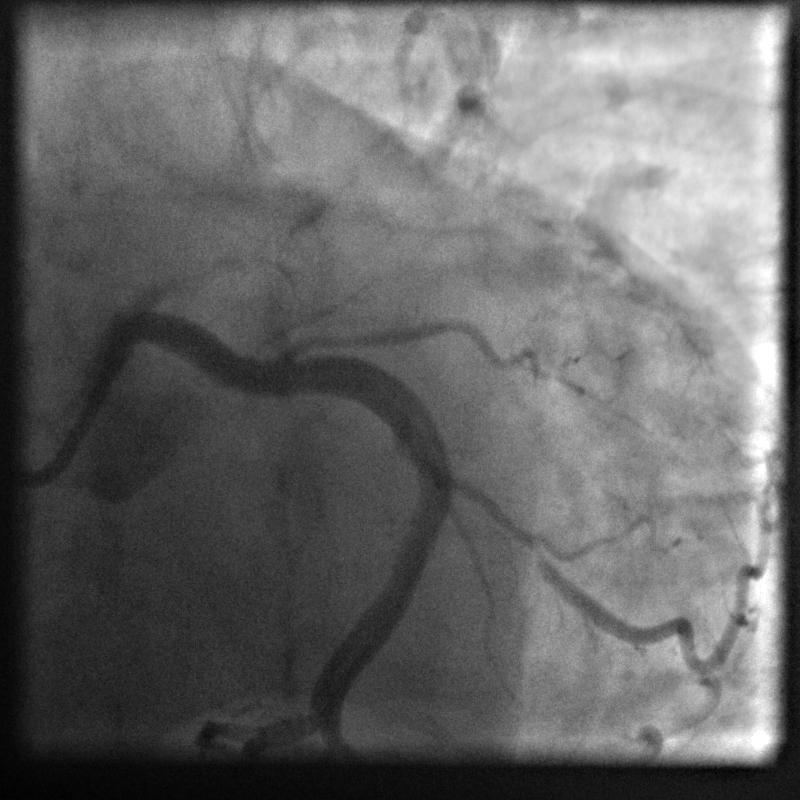Stenosis: (423, 438, 564, 575)
